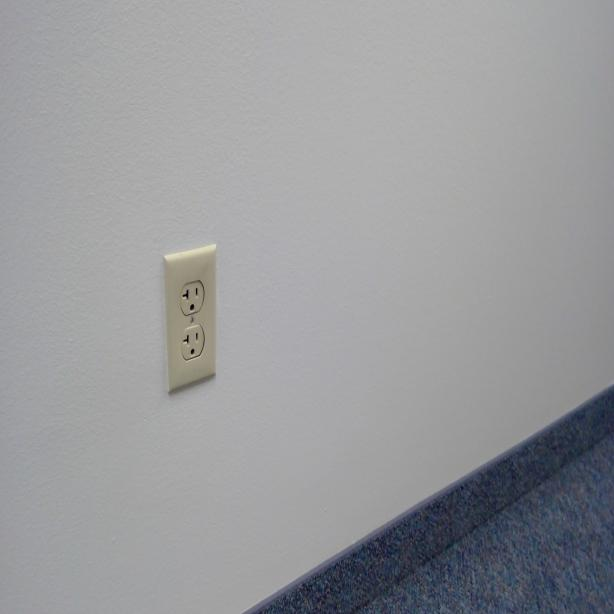typeb: (181, 283, 203, 316), (183, 326, 204, 359)
